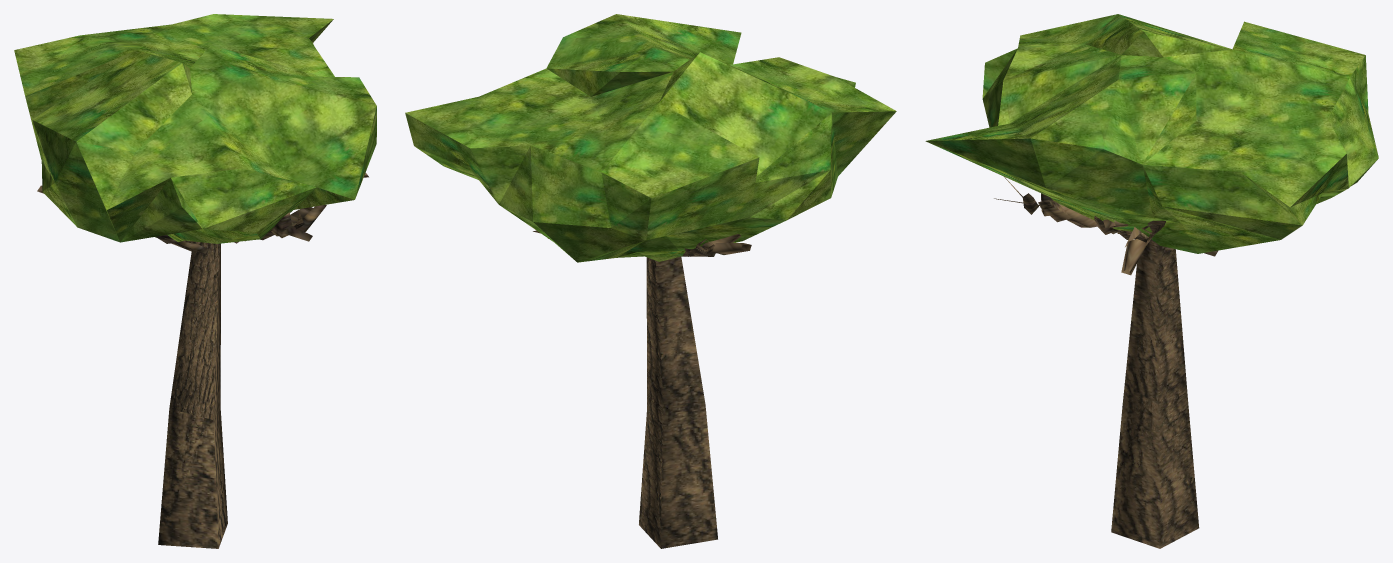
The model's file is tree1.dae.
The picture shows the model from 3 angles, left to right: view 1: azimuth 30°, elevation 25°; view 2: azimuth 150°, elevation 25°; view 3: azimuth 270°, elevation 25°; orthographic projection. The views are drawn at different scales.
Visible parts, largest first — view 1: tree_template_084; view 2: tree_template_084; view 3: tree_template_084.
Boxes of the visible parts, x1,y1,x2,y2 form: tree_template_084: [14, 14, 376, 548]; tree_template_084: [405, 14, 896, 548]; tree_template_084: [925, 14, 1378, 548].
Size of the model in its own units: 8.29 by 8.87 by 10.58.
